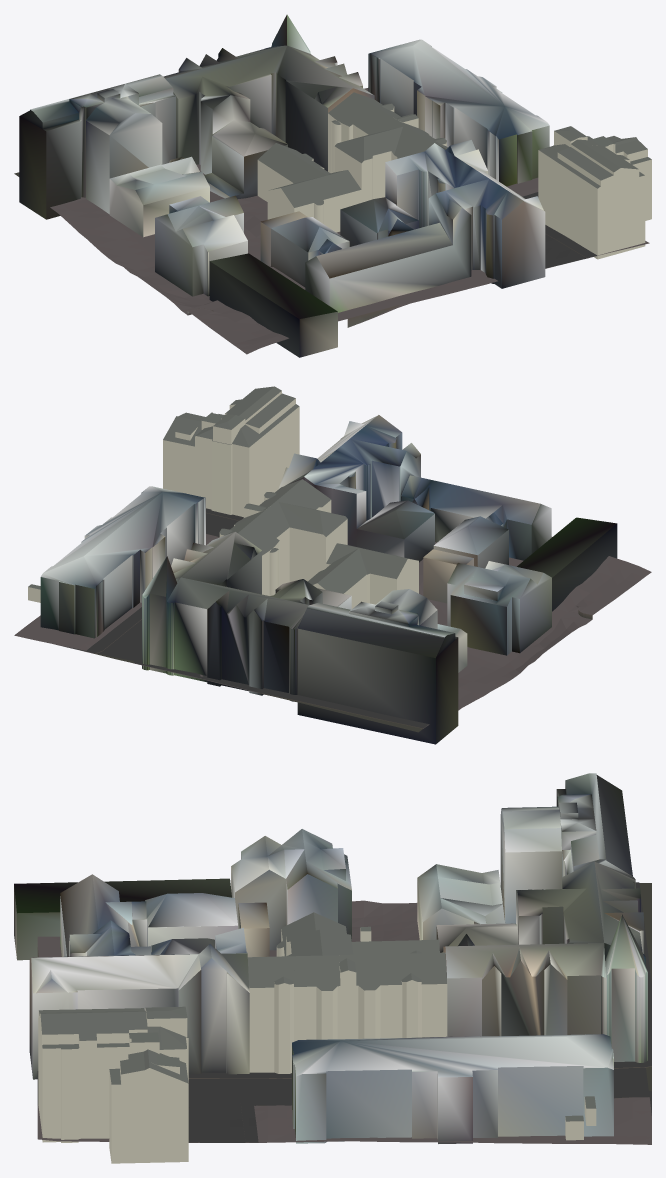
3 views of the same model, one above another, from view 1: azimuth 30°, elevation 25°; view 2: azimuth 150°, elevation 25°; view 3: azimuth 270°, elevation 25° (orthographic). The views are drawn at different scales.
Visible parts, largest first — view 1: c_p01_m04; view 2: c_p01_m04; view 3: c_p01_m04.
Boxes of the visible parts, x1=… form: c_p01_m04: x1=14, y1=14, x2=651, y2=357; c_p01_m04: x1=14, y1=386, x2=651, y2=744; c_p01_m04: x1=14, y1=773, x2=651, y2=1163.
Bounding box in the file's own units: 139 × 38.77 × 133.
